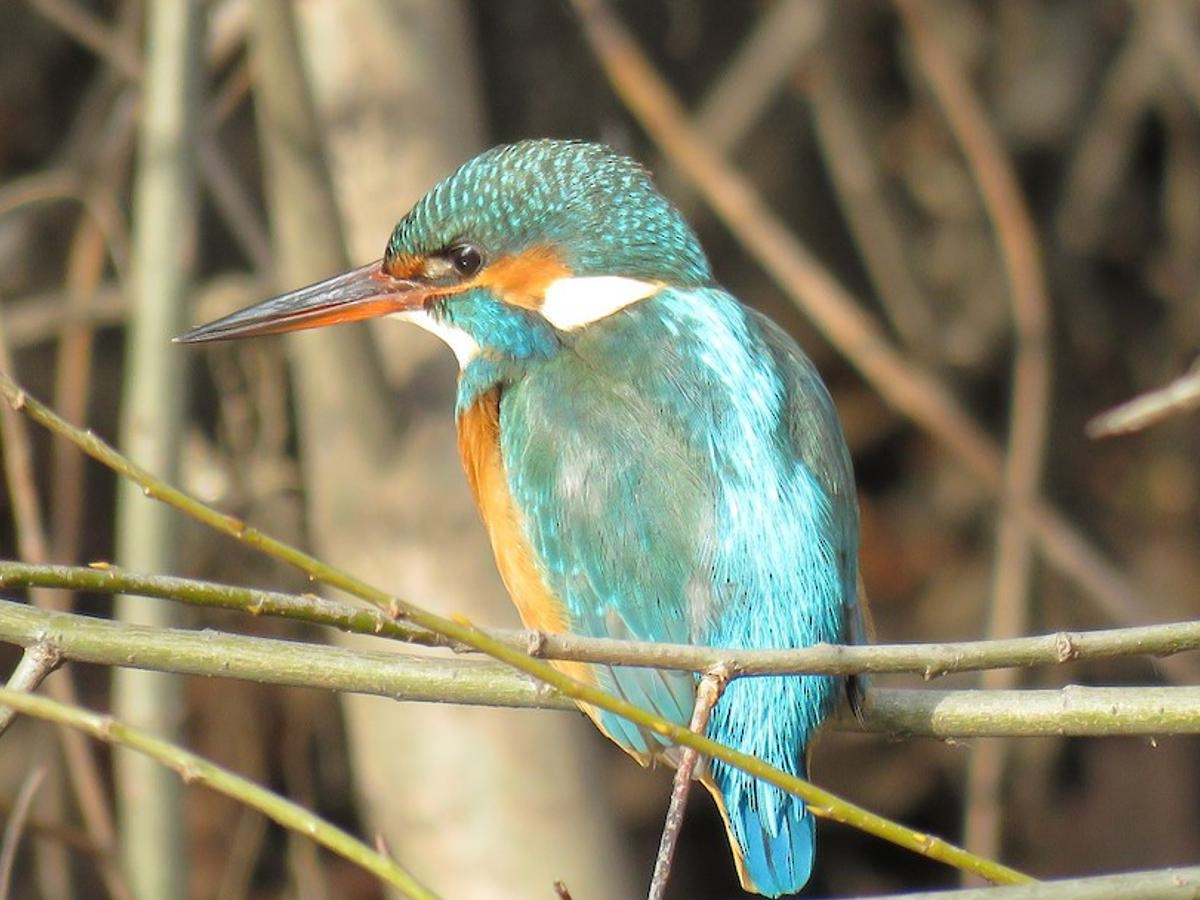kingfisher: (170, 125, 938, 897)
